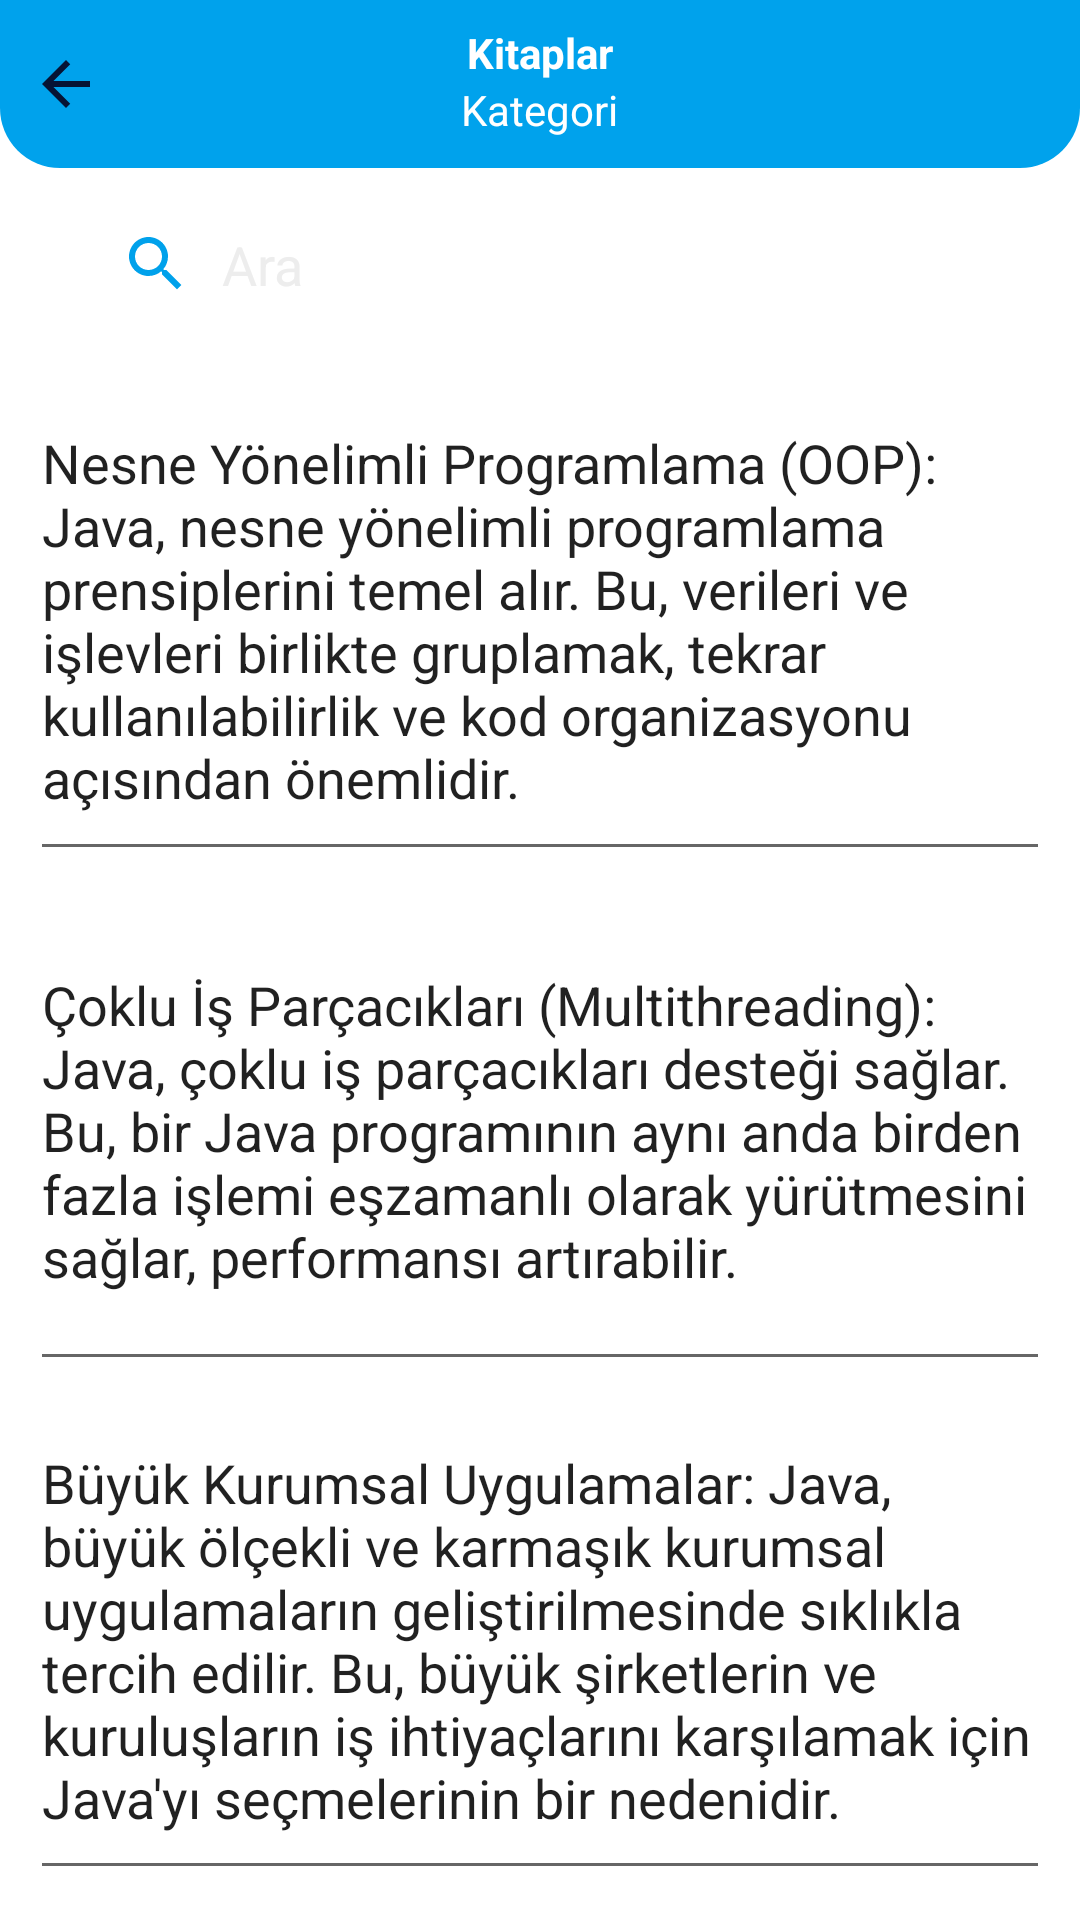

Icon click points for this 1080px x 1920px phone screenshot, format [x,y]:
arrow back: [66,84]
